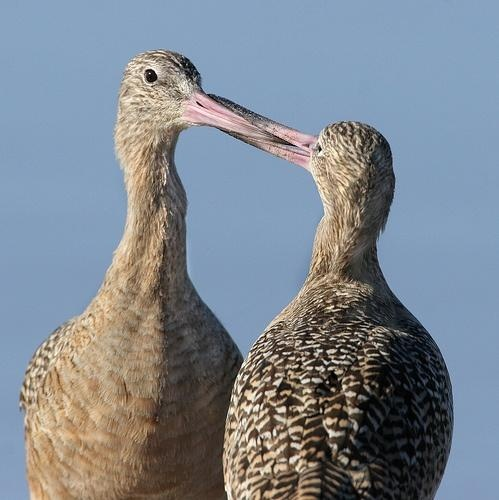bird: (19, 47, 293, 500), (207, 93, 457, 500)
